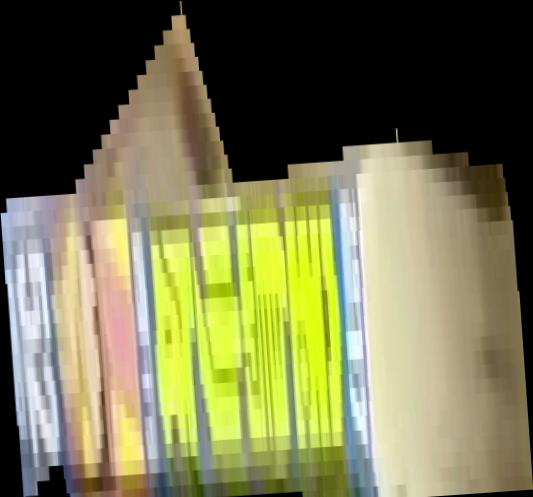flat: (1, 1, 533, 497)
